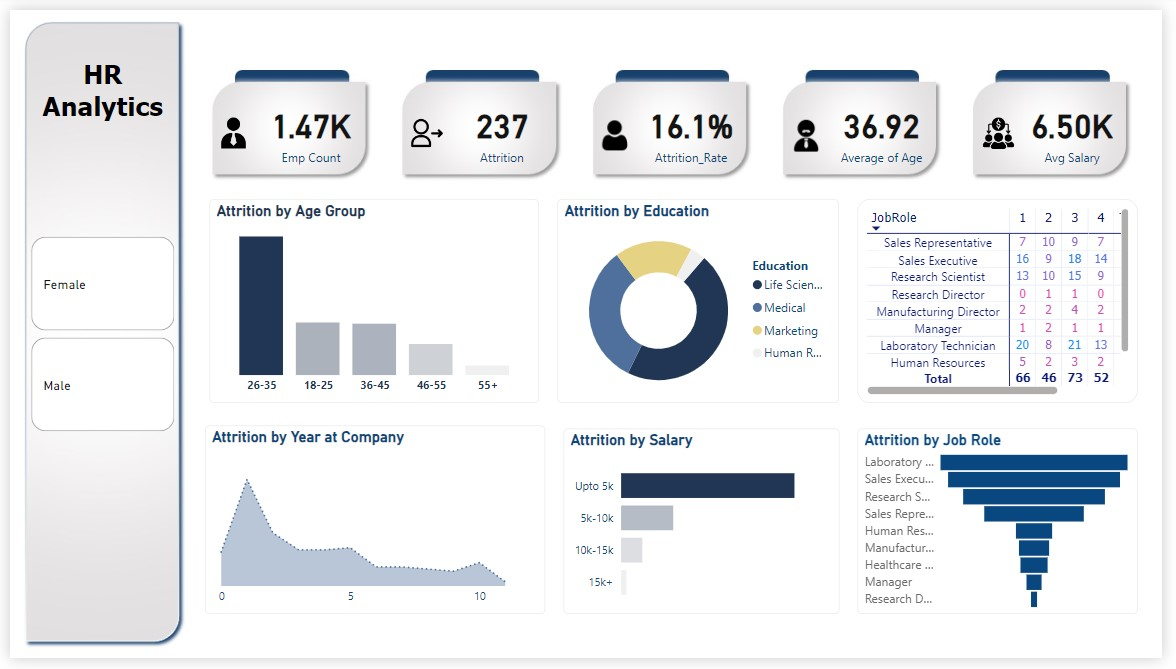

Layout of this report page (visuals, bound fields, positions):
{"tool":"powerbi","page":{"name":"Page 5","canvas":[1280,720],"ordinal":1},"visuals":[{"type":"cardVisual","fields":{"Data":["CountNonNull(HR_Analytics.EmpID)"]},"box":[270.6,91.4,129.7,92.2],"z":0},{"type":"cardVisual","fields":{"Data":["Sum(HR_Analytics.Attrition_)"]},"box":[481.4,91.4,130,92.2],"z":1000},{"type":"image","box":[221.6,109.6,50,50],"z":2000},{"type":"cardVisual","fields":{"Data":["HR_Analytics.Attrition_Rate"]},"box":[692.4,91.4,130,92.2],"z":3000},{"type":"image","box":[650.6,111.9,43.8,45.3],"z":4000},{"type":"cardVisual","fields":{"Data":["Avg(HR_Analytics.MonthlyIncome)"]},"box":[1114.6,91.4,130,92.2],"z":5000},{"type":"image","box":[1068.7,109.6,59.4,50],"z":6000},{"type":"cardVisual","fields":{"Data":["Avg(HR_Analytics.Age)"]},"box":[903.5,91.4,130,92.2],"z":7000},{"type":"image","box":[858.9,111.9,45.3,45.3],"z":8000},{"type":"image","box":[436.1,109.6,50,50],"z":9000},{"type":"columnChart","title":"Attrition by Age","fields":{"Category":["HR_Analytics.AgeGroup"],"Y":["Sum(HR_Analytics.Attrition_)"]},"box":[217.3,225.1,378.2,218.8],"z":10000},{"type":"areaChart","title":"Attrition by Year at Company","fields":{"Category":["HR_Analytics.YearsAtCompany"],"Y":["Sum(HR_Analytics.Attrition_)"]},"box":[217.3,462.3,378.2,209.4],"z":11000},{"type":"donutChart","title":"Attrition by Education","fields":{"Category":["HR_Analytics.EducationField"],"Y":["Sum(HR_Analytics.Attrition_)"]},"box":[617.4,225.1,301.7,218.8],"z":12000},{"type":"barChart","title":"Attrition by Salary","fields":{"Category":["HR_Analytics.SalarySlab"],"Y":["Sum(HR_Analytics.Attrition_)"]},"box":[615.1,465.4,306.3,206.3],"z":13000},{"type":"funnel","title":"Attrition by Job Role","fields":{"Category":["HR_Analytics.JobRole"],"Y":["Sum(HR_Analytics.Attrition_)"]},"box":[941,465.4,311,206.3],"z":14000},{"type":"pivotTable","fields":{"Values":["Sum(HR_Analytics.Attrition_)"],"Columns":["HR_Analytics.JobSatisfaction"],"Rows":["HR_Analytics.JobRole"]},"box":[941,225.1,311,218.8],"z":14001}]}

Visuals, with their boxes in screenshot pixels (x1, y1, x2, y2), scaled from the page's 1280x720 canvas onto the 1176x669 screenshot:
cardVisual - CountNonNull(HR_Analytics.EmpID): box=[249, 85, 368, 171]
cardVisual - Sum(HR_Analytics.Attrition_): box=[442, 85, 562, 171]
image: box=[204, 102, 250, 148]
cardVisual - HR_Analytics.Attrition_Rate: box=[636, 85, 756, 171]
image: box=[598, 104, 638, 146]
cardVisual - Avg(HR_Analytics.MonthlyIncome): box=[1024, 85, 1143, 171]
image: box=[982, 102, 1036, 148]
cardVisual - Avg(HR_Analytics.Age): box=[830, 85, 950, 171]
image: box=[789, 104, 831, 146]
image: box=[401, 102, 447, 148]
"Attrition by Age" columnChart: box=[200, 209, 547, 412]
"Attrition by Year at Company" areaChart: box=[200, 430, 547, 624]
"Attrition by Education" donutChart: box=[567, 209, 844, 412]
"Attrition by Salary" barChart: box=[565, 432, 847, 624]
"Attrition by Job Role" funnel: box=[865, 432, 1150, 624]
pivotTable - Sum(HR_Analytics.Attrition_) x HR_Analytics.JobSatisfaction: box=[865, 209, 1150, 412]
